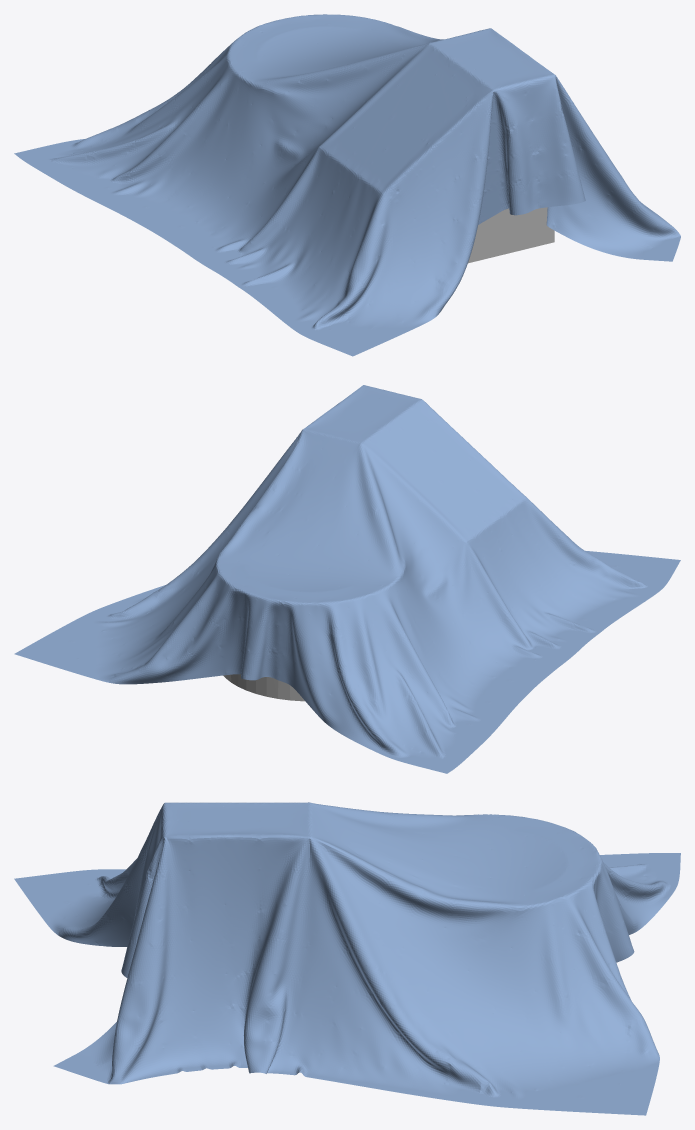
The model's file is level_4.glb.
3 views of the same model, one above another, from view 1: azimuth 30°, elevation 25°; view 2: azimuth 150°, elevation 25°; view 3: azimuth 270°, elevation 25° (orthographic). The views are drawn at different scales.
Visible parts, largest first — view 1: world, object.obj; view 2: world, object.obj; view 3: world.
Boxes of the visible parts, box(x1,y1,x2,y2) form: world: box(14, 14, 680, 356); object.obj: box(468, 207, 554, 263); world: box(14, 385, 680, 773); object.obj: box(223, 674, 304, 701); world: box(14, 802, 680, 1115).
Size of the model in its own units: 0.5523 by 0.1884 by 0.5926.
